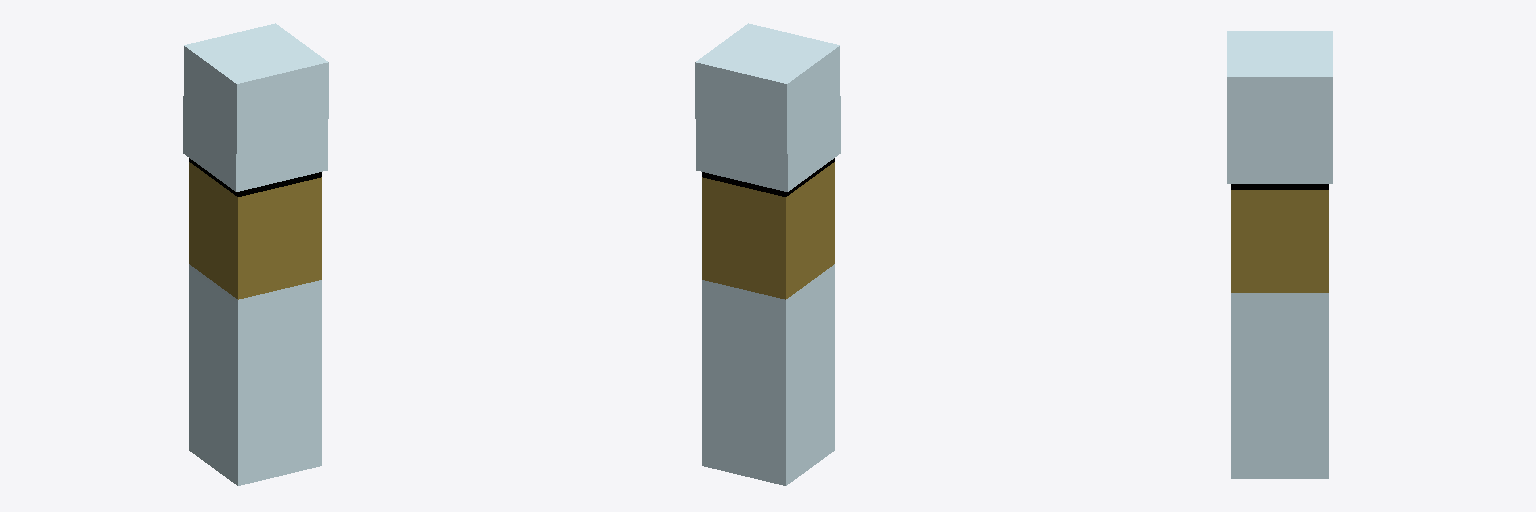
The model's file is chef1.obj.
The picture shows the model from 3 angles: view 1: azimuth 30°, elevation 25°; view 2: azimuth 150°, elevation 25°; view 3: azimuth 270°, elevation 25°; orthographic projection.
Parts seen in each view (by area): view 1: Person.002_Cube.015; view 2: Person.002_Cube.015; view 3: Person.002_Cube.015.
Part boxes in pixels (x1,y1,x2,y2): Person.002_Cube.015: (183, 23, 328, 485); Person.002_Cube.015: (695, 23, 840, 485); Person.002_Cube.015: (1227, 31, 1332, 478).
Bounding box in the file's own units: 0.1723 × 0.721 × 0.1714.